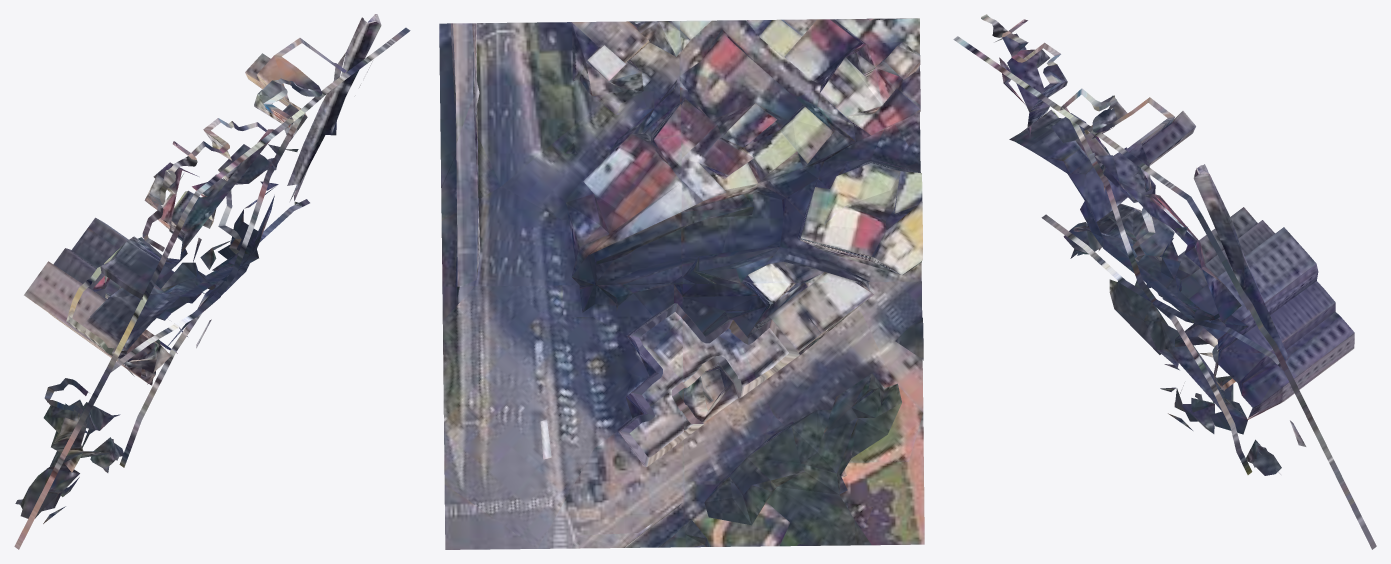
3 views of the same model, side by side, from view 1: azimuth 30°, elevation 25°; view 2: azimuth 150°, elevation 25°; view 3: azimuth 270°, elevation 25° (orthographic). The views are drawn at different scales.
Bounding box in the file's own units: 153 × 147 × 132.
Materials: 2 (2 with a texture image).
